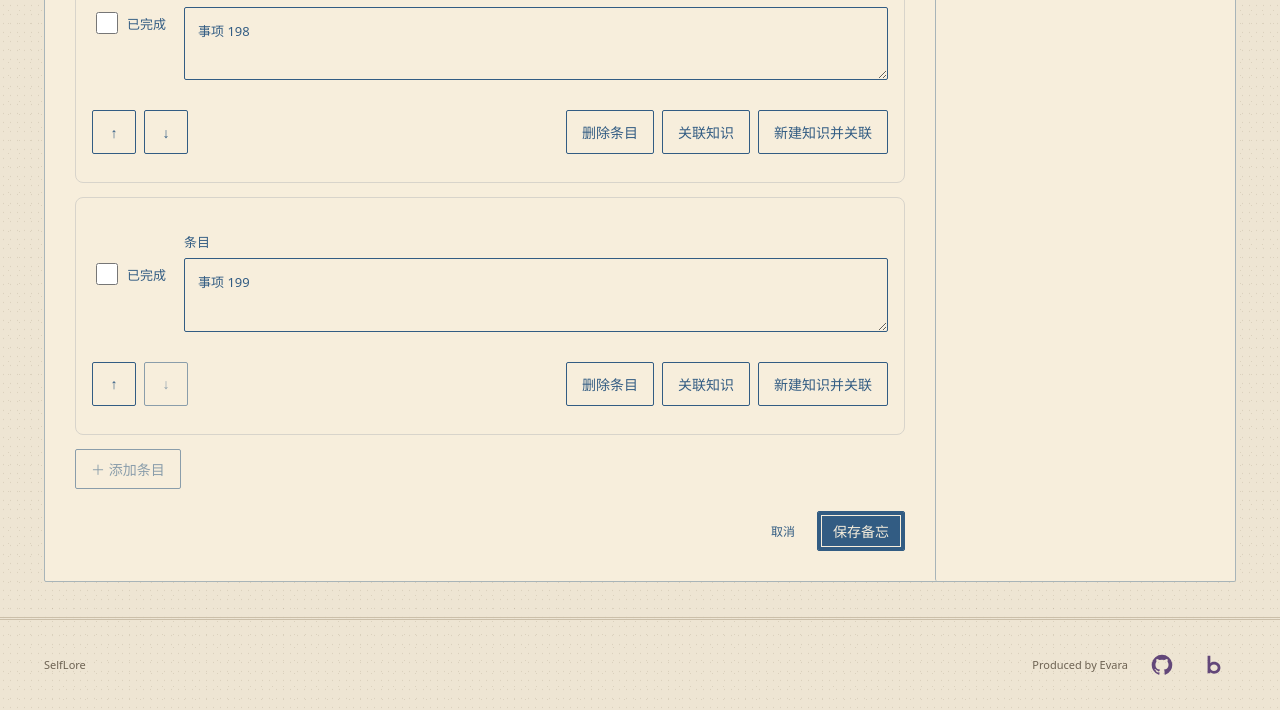
Test case: checklist editor enforces 200 items and allows deleting then adding
The image size is (1280, 710).
(page scrolled)
Expected: the button "＋ 添加条目" is disabled, [75,449,181,489]
Click the 2nd button "删除条目".
click(610, 384)  # box [566,362,654,406]
(page scrolled)
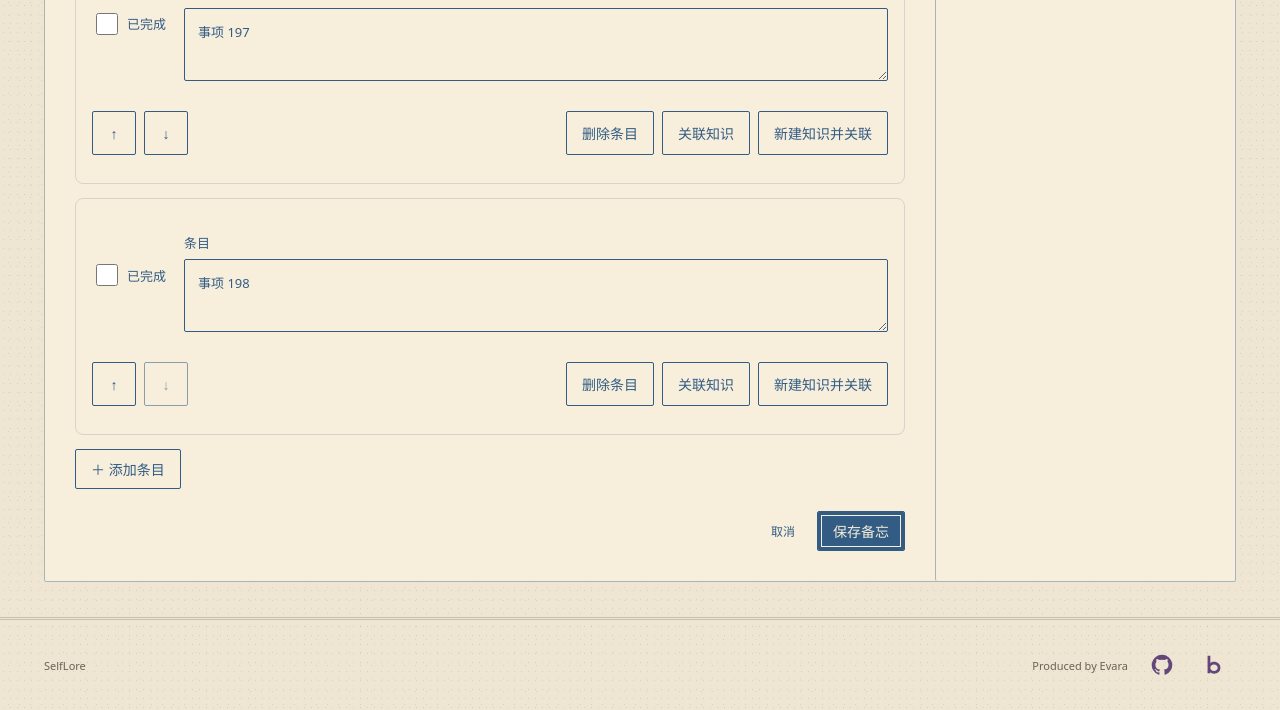
Expected: the button "＋ 添加条目" is enabled
Click the button "＋ 添加条目".
click(128, 470)  # box [75,450,181,490]
(page scrolled)
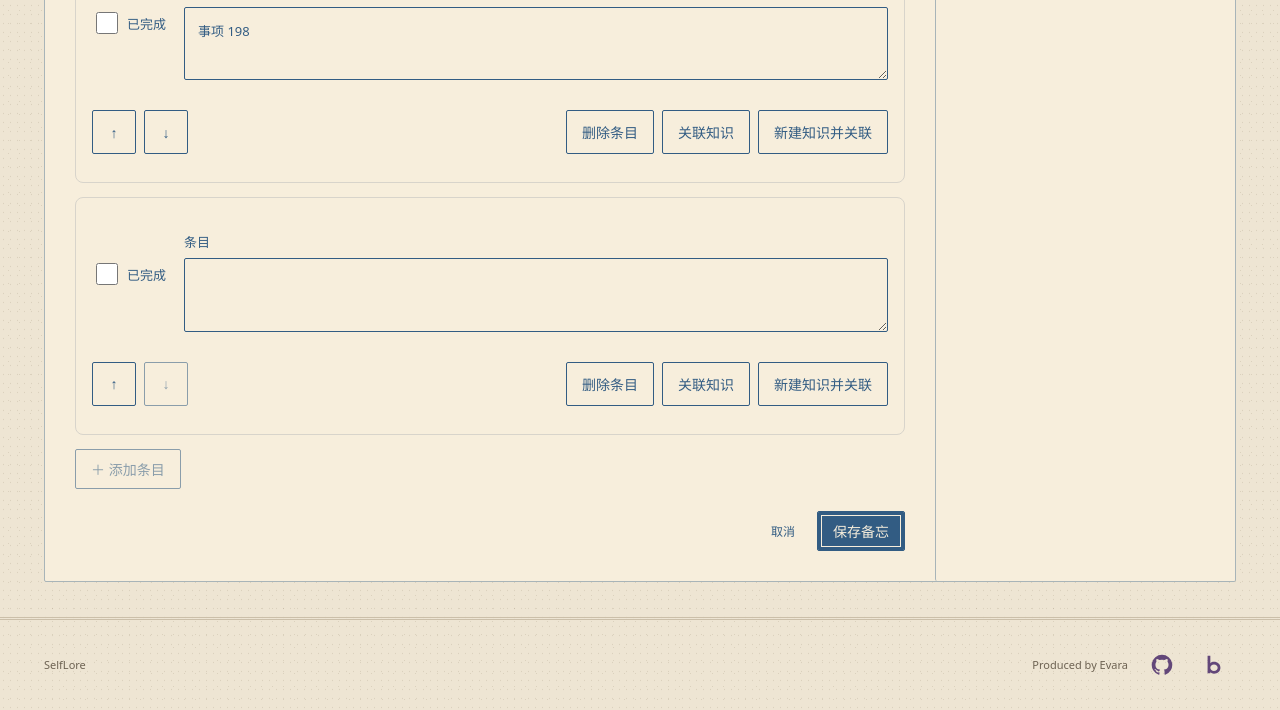
Expected: the button "＋ 添加条目" is disabled, [75,449,181,489]
